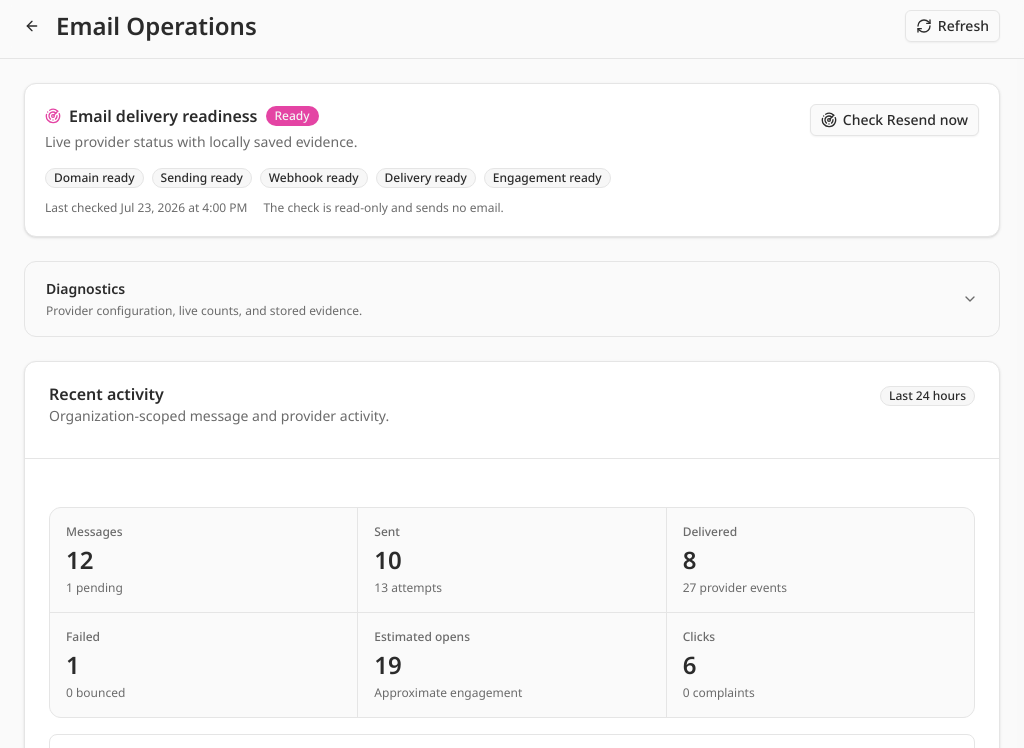
Scenario: EmailOperationsDashboard › replaces repeated readiness checks with one empty state when no provider is set (integration manager)
Click the button "Diagnostics". click: (86, 288)
box: [25,262,999,336]
(page scrolled)
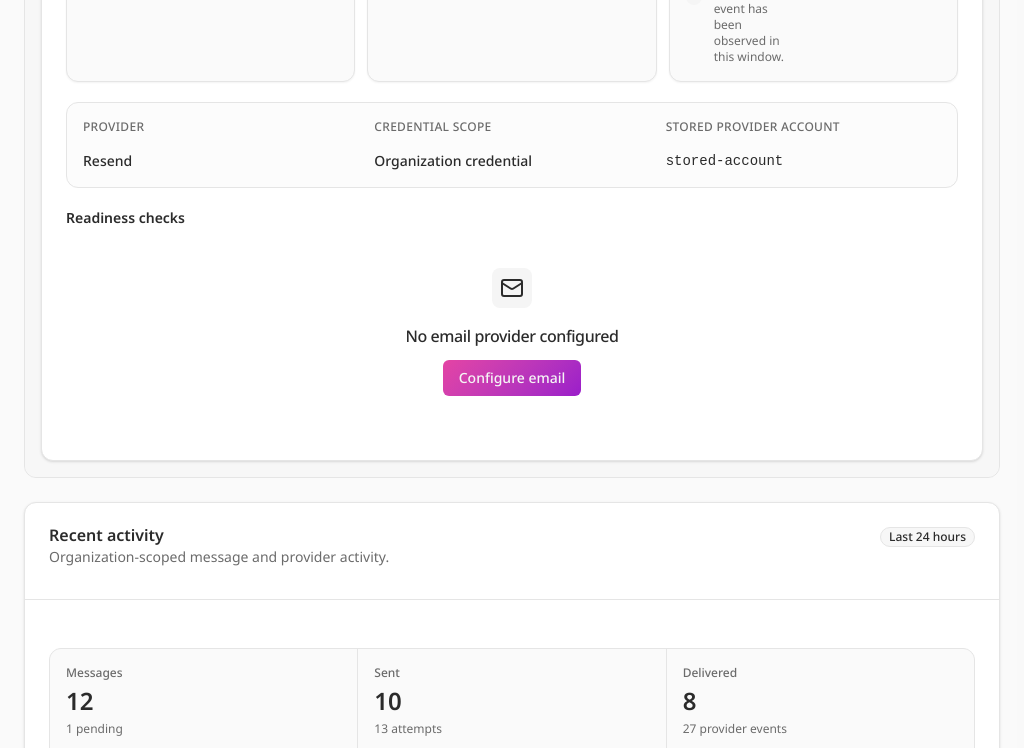
Now the heading "No email provider configured" is shown, box [405,324,619,348]
